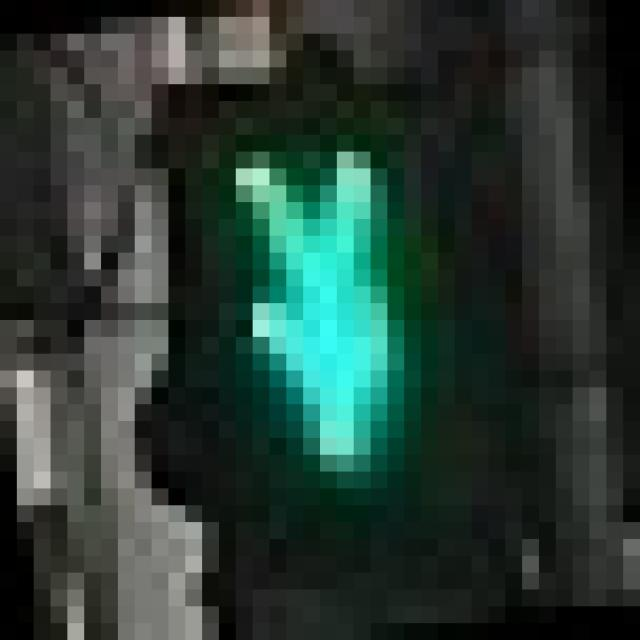green_light: (84, 51, 505, 522)
